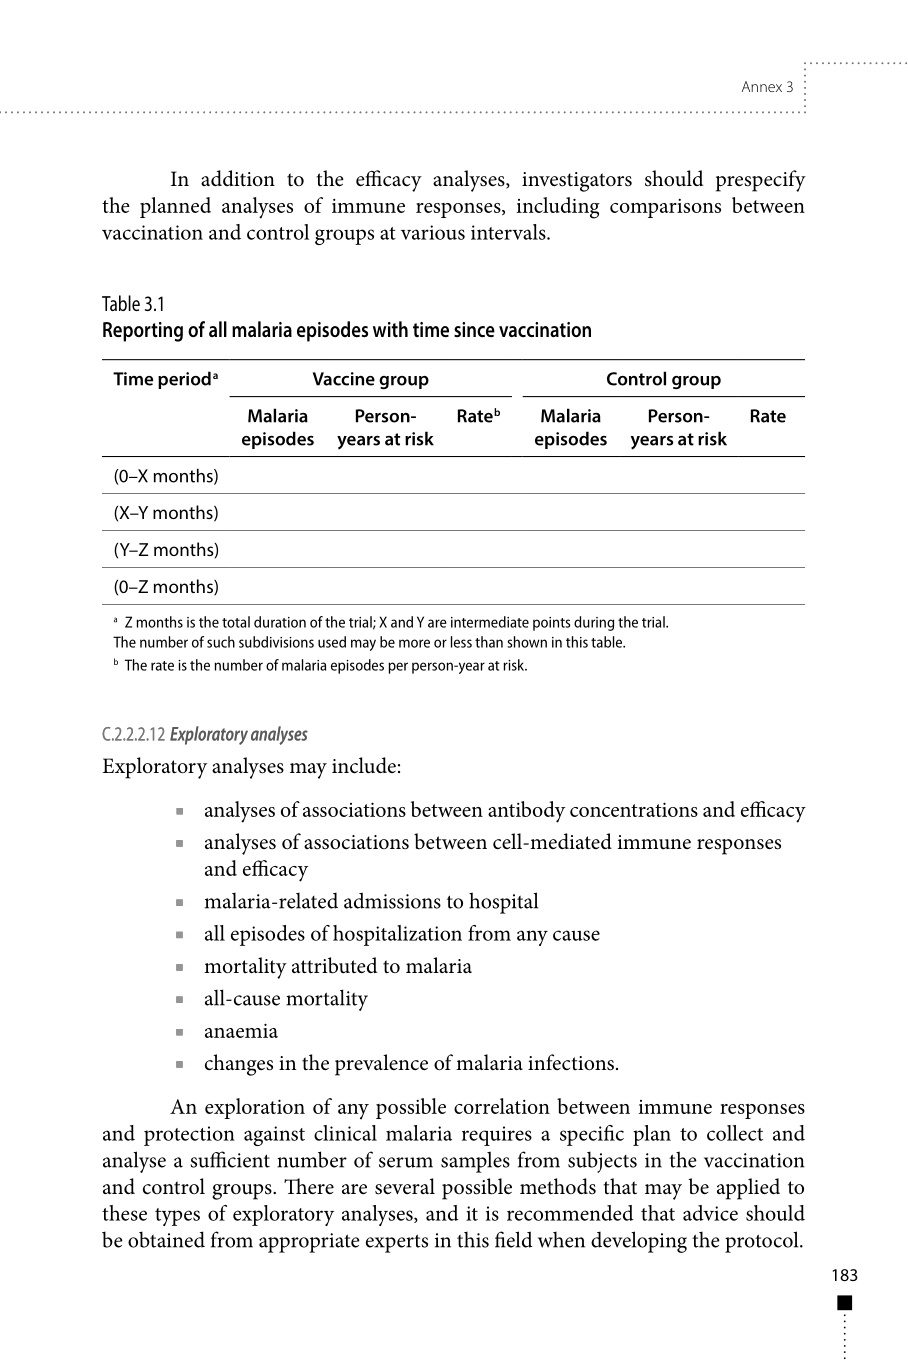partial_lined_merged_cells: (99, 359, 809, 608)
